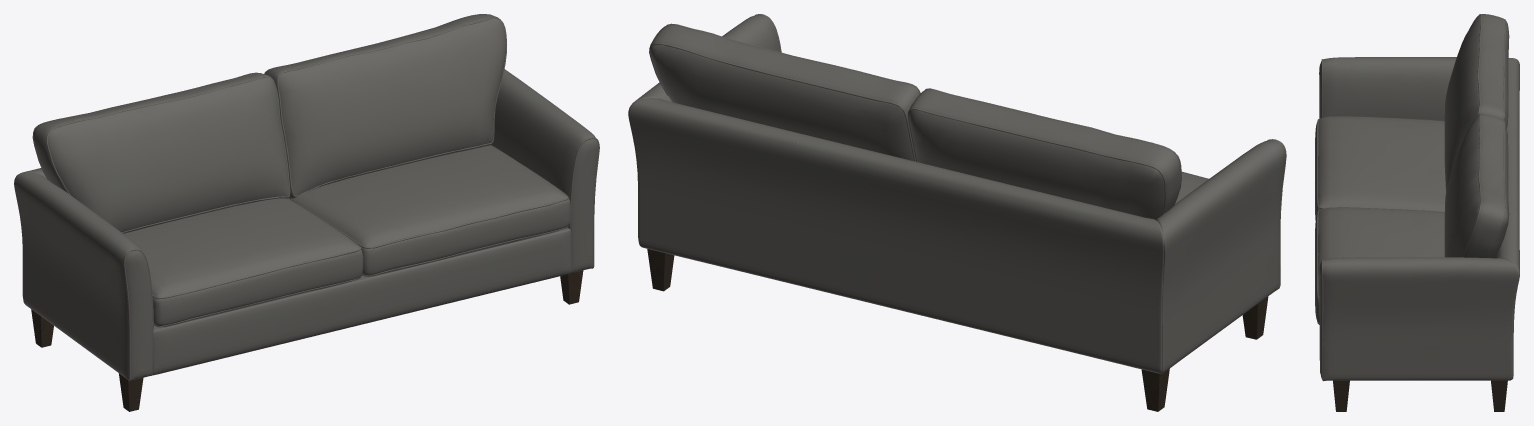
File: 01 - EKHOLMA - 三人座沙發，Hakebo 深灰色 IKEA 線上購物.glb
3 views of the same model, side by side, from view 1: azimuth 30°, elevation 25°; view 2: azimuth 150°, elevation 25°; view 3: azimuth 270°, elevation 25° (orthographic). The views are drawn at different scales.
Parts seen in each view (by area): view 1: Mesh_0; view 2: Mesh_0; view 3: Mesh_0.
Part boxes in pixels (x1,y1,x2,y2): Mesh_0: [14, 14, 599, 411]; Mesh_0: [628, 14, 1286, 411]; Mesh_0: [1315, 14, 1519, 411].
Bounding box in the file's own units: 2.07 × 0.9394 × 0.8505.
Materials: 1 (1 with a texture image).
